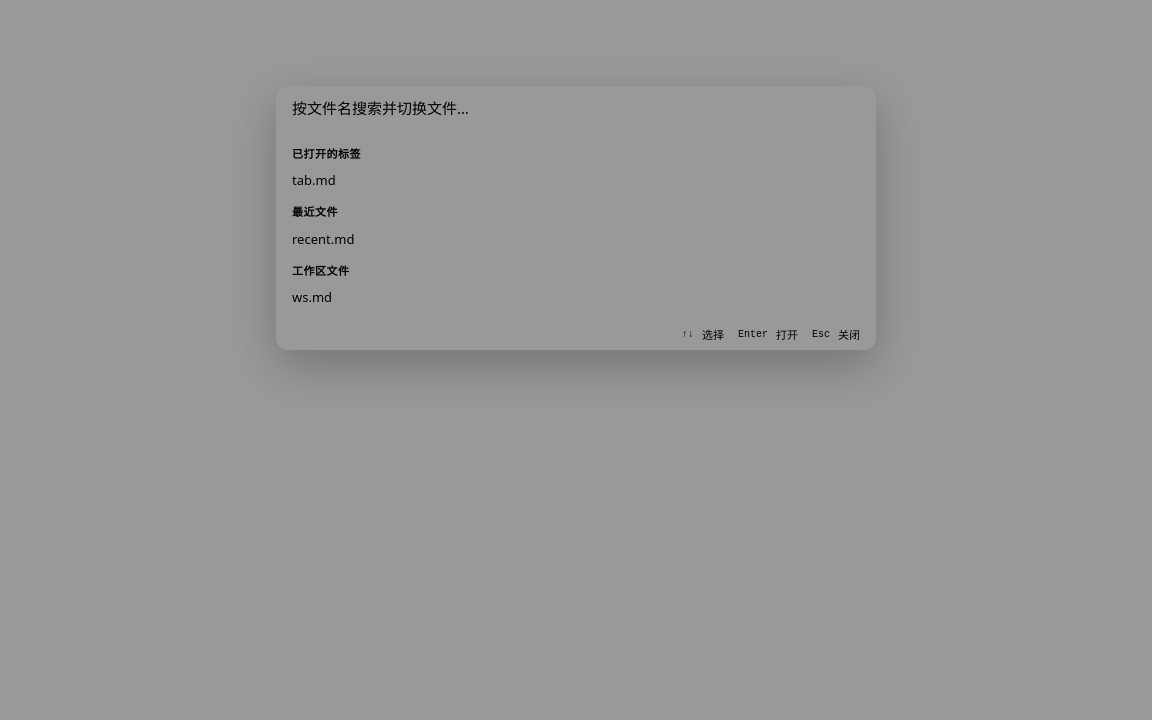
Test: QuickOpenDialog 组件 › 输入过滤：无匹配时显示空态
Type "zzzz" into the field with placeholder "按文件名搜索并切换文件…" at (576, 108), box [292,98,860,118]
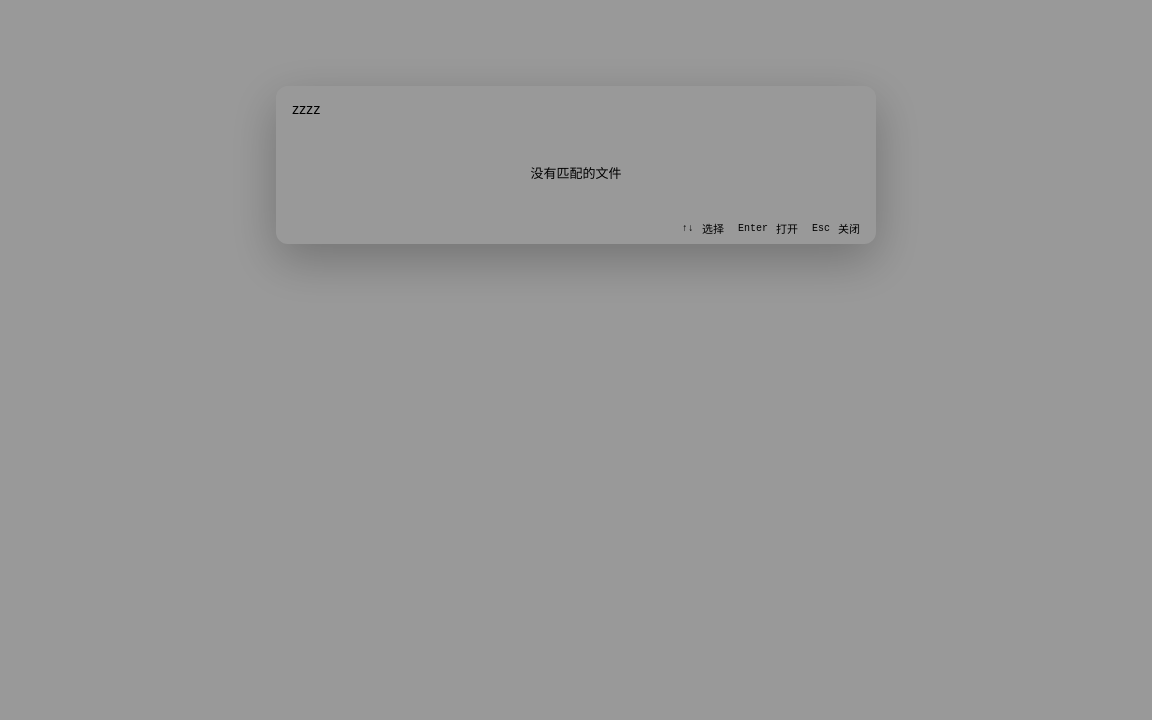
expect the text "没有匹配的文件" is shown: met, box [530,164,622,182]
